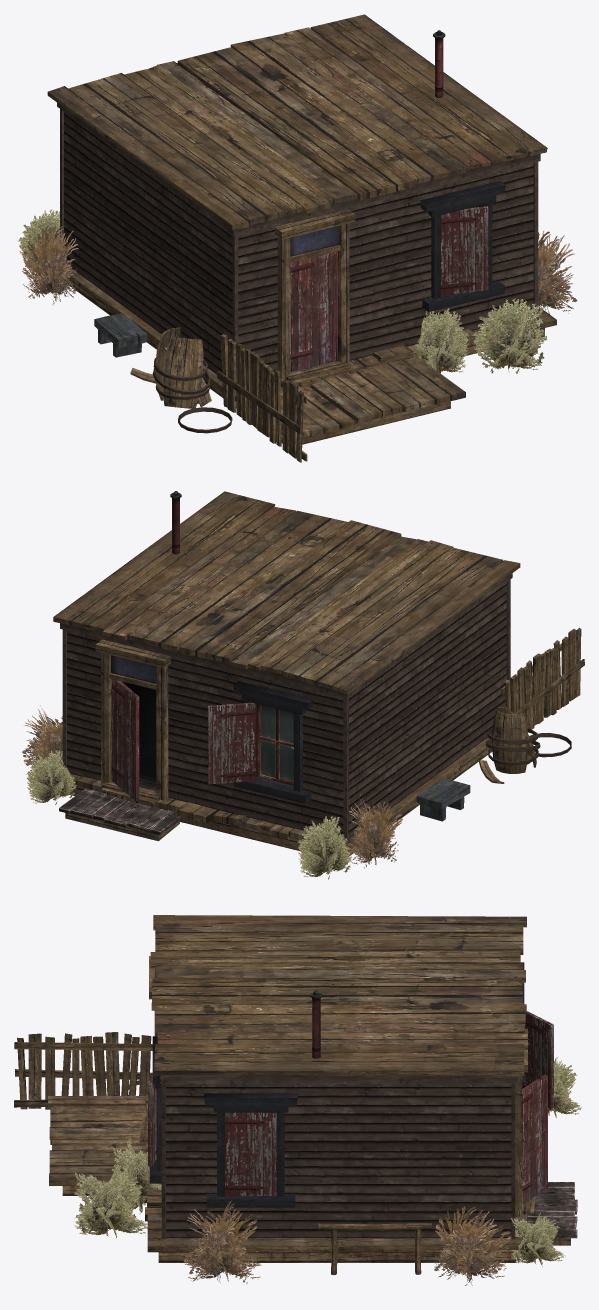
File: casa_oeste.glb
3 views of the same model, one above another, from view 1: azimuth 30°, elevation 25°; view 2: azimuth 150°, elevation 25°; view 3: azimuth 270°, elevation 25° (orthographic). The views are drawn at different scales.
Visible parts, largest first — view 1: House 1_House 1_0, House 1_House 1 Alpha_0; view 2: House 1_House 1_0, House 1_House 1 Alpha_0; view 3: House 1_House 1_0, House 1_House 1 Alpha_0.
Part boxes in pixels (bbox=[...]): House 1_House 1_0: bbox=[47, 14, 556, 462]; House 1_House 1 Alpha_0: bbox=[18, 209, 577, 373]; House 1_House 1_0: bbox=[53, 491, 584, 856]; House 1_House 1 Alpha_0: bbox=[22, 705, 402, 879]; House 1_House 1_0: bbox=[14, 915, 577, 1274]; House 1_House 1 Alpha_0: bbox=[74, 1057, 581, 1285].
Size of what is drawn, in the model's own units: 8.58 by 4.95 by 9.79.
Materials: 2 (2 with a texture image).
